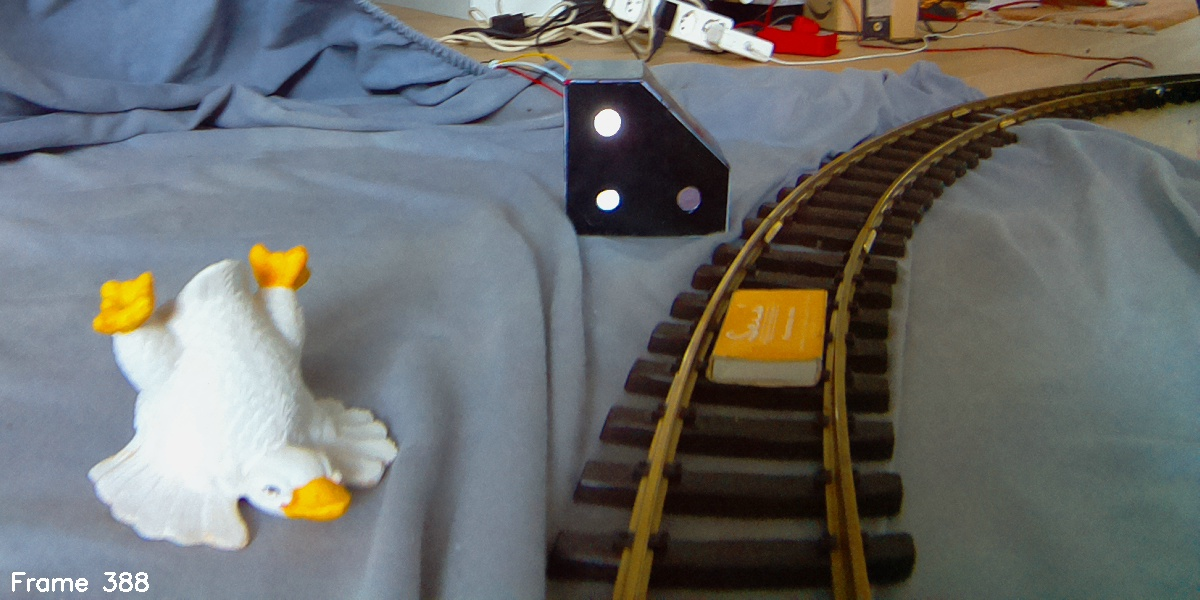Ente: (84, 242, 400, 557)
Fahrt: (569, 61, 729, 241)
